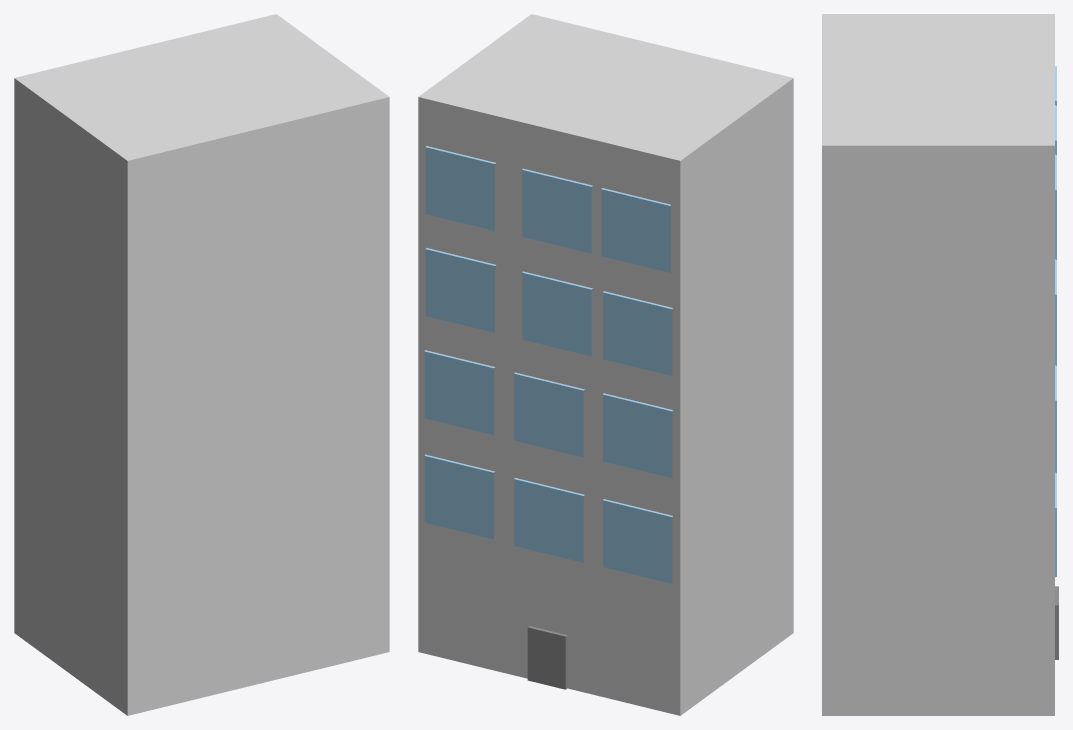
Rendered from Building.fbx.
The picture shows the model from 3 angles, left to right: view 1: azimuth 30°, elevation 25°; view 2: azimuth 150°, elevation 25°; view 3: azimuth 270°, elevation 25°; orthographic projection. The views are drawn at different scales.
Parts seen in each view (by area): view 1: Cube; view 2: Cube, Cube.004, Cube.003, Cube.010, Cube.013, Cube.005, Cube.006, Cube.008, Cube.012, Cube.014, Cube.002, Cube.009 (+2 smaller); view 3: Cube.
Boxes of the visible parts, x1,y1,x2,y2 form: Cube: (14, 14, 389, 715); Cube: (418, 14, 793, 715); Cube.004: (425, 247, 496, 332); Cube.003: (425, 146, 496, 230); Cube.010: (603, 499, 672, 583); Cube.013: (514, 478, 584, 562); Cube.005: (424, 350, 495, 434); Cube.006: (522, 271, 592, 356); Cube.008: (522, 168, 592, 253); Cube.012: (424, 454, 494, 539); Cube.014: (514, 372, 584, 457); Cube.002: (603, 393, 672, 477); Cube.009: (601, 188, 670, 272); Cube: (822, 14, 1054, 715).
Bounding box in the file's own units: 1918 × 3880 × 1461.
